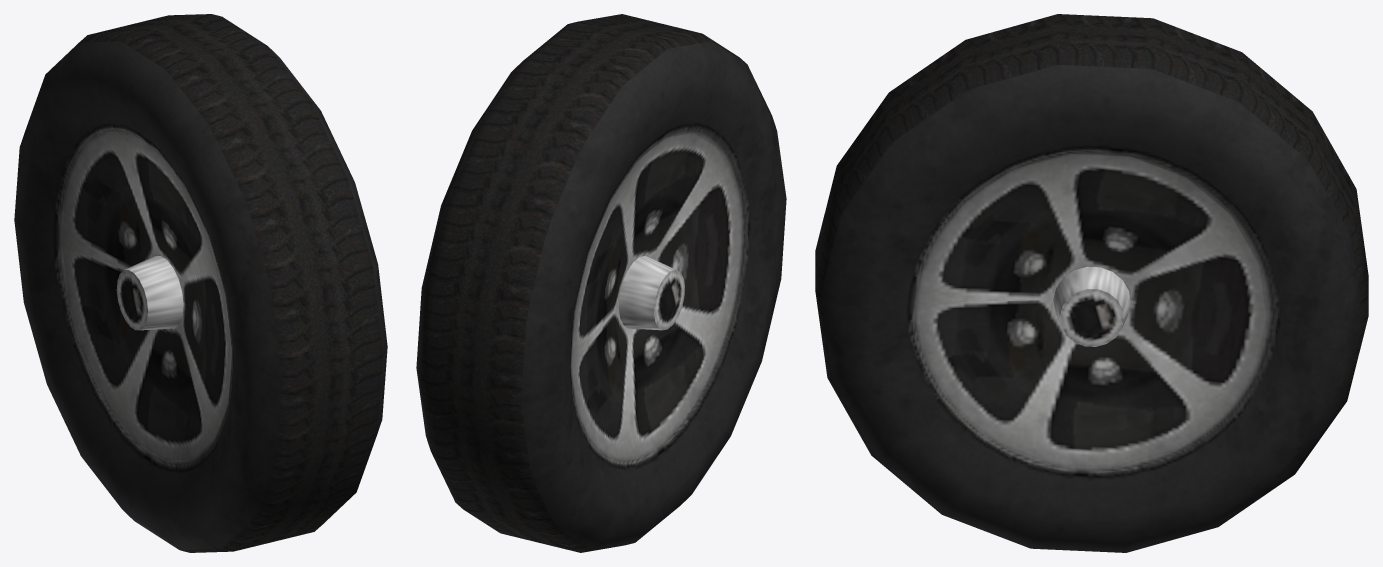
The model's file is plimouth_wheel.obj.
3 views of the same model, side by side, from view 1: azimuth 30°, elevation 25°; view 2: azimuth 150°, elevation 25°; view 3: azimuth 270°, elevation 25° (orthographic). The views are drawn at different scales.
Visible parts, largest first — view 1: Cylinder.002; view 2: Cylinder.002; view 3: Cylinder.002.
Part boxes in pixels (bbox=[...]): Cylinder.002: bbox=[14, 14, 387, 552]; Cylinder.002: bbox=[416, 14, 786, 552]; Cylinder.002: bbox=[815, 14, 1368, 552].
Size of the model in its own units: 0.6056 by 2 by 2.01.
Materials: 1 (1 with a texture image).
